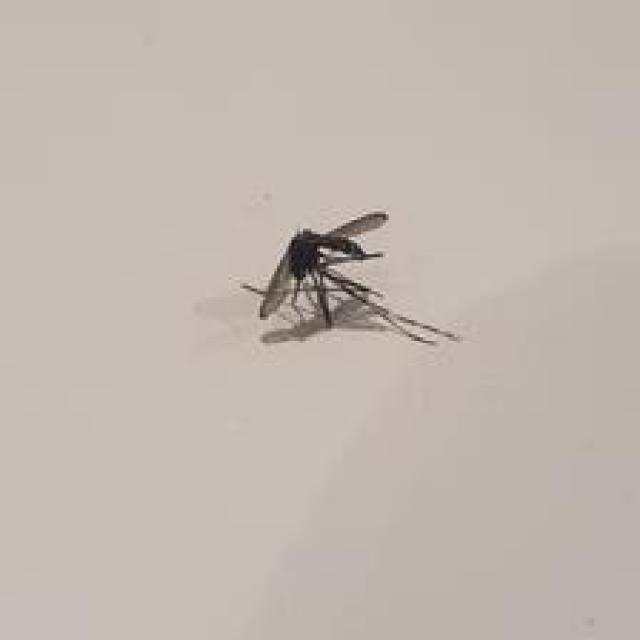Aedes albopictus: (240, 210, 460, 347)
